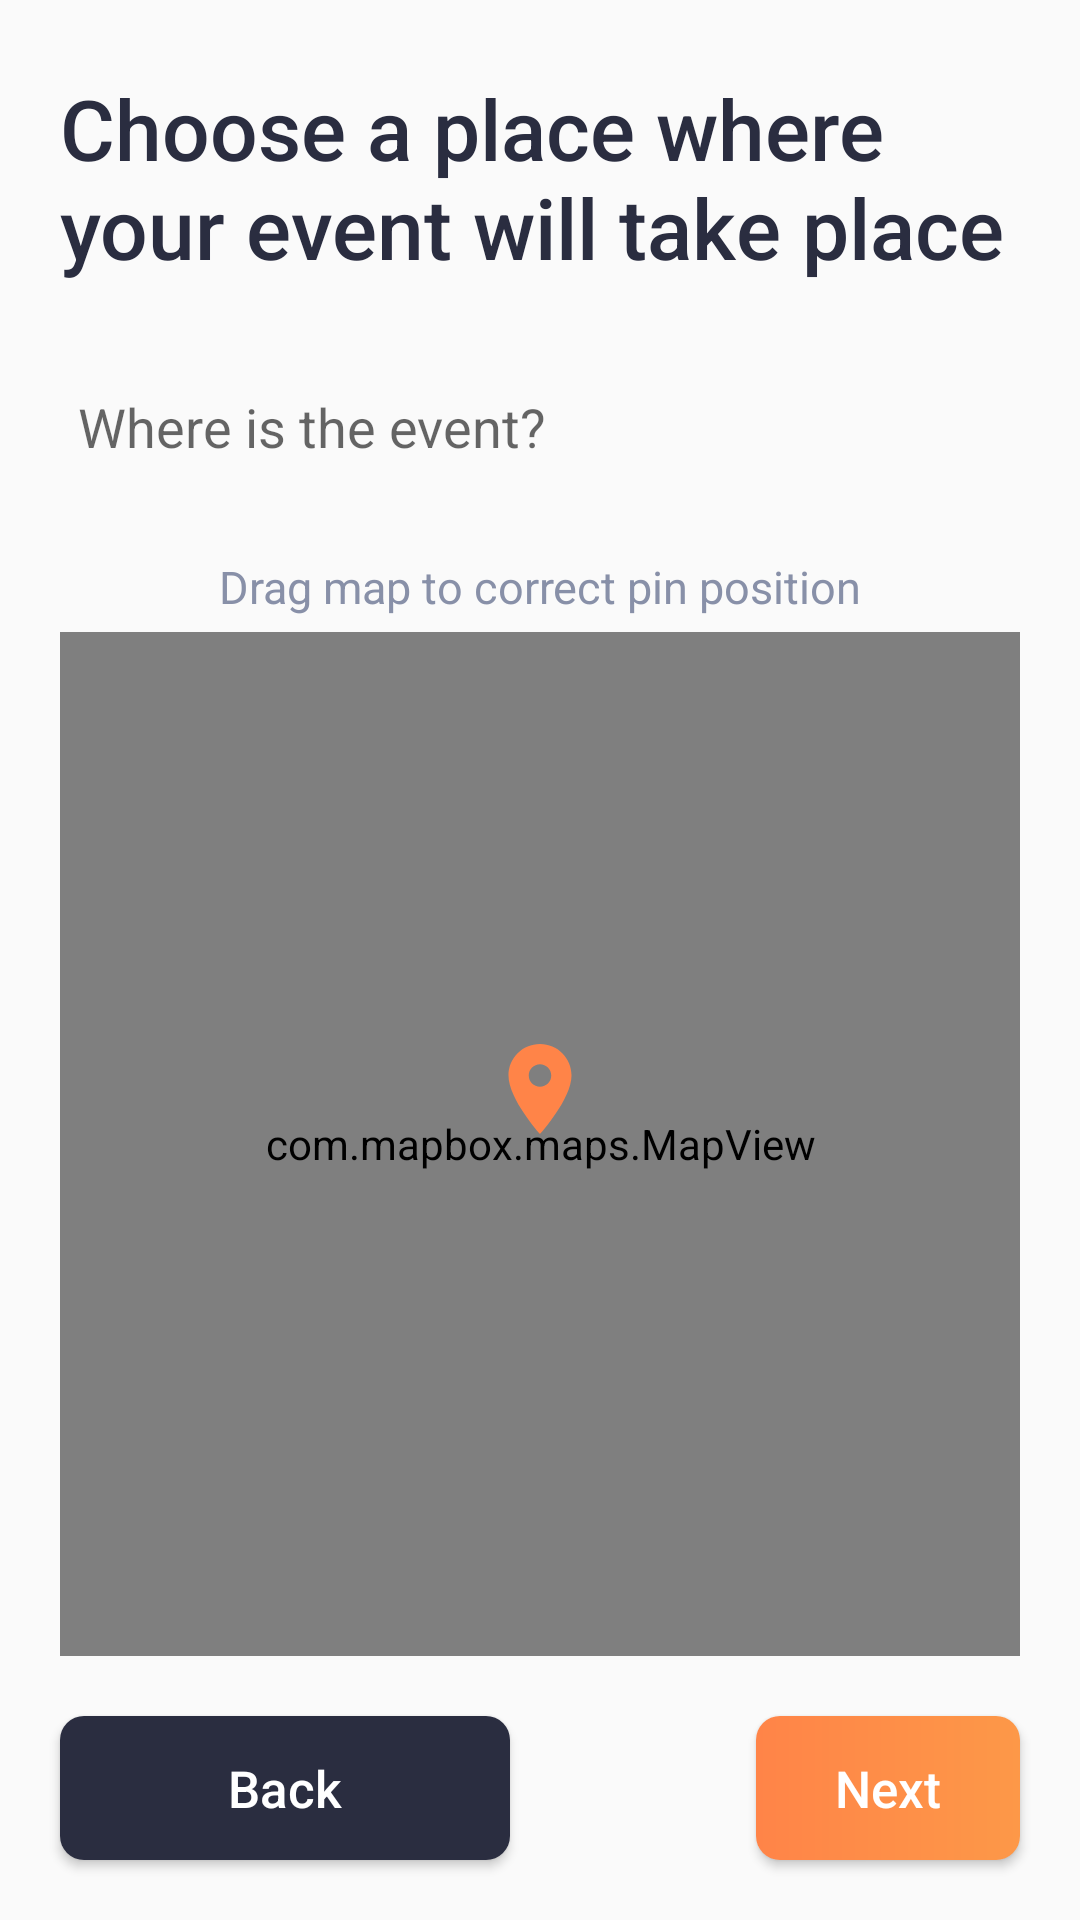

Named icons in this screenshot (1080*1920) and their centers, (x=x, y=y):
marker: (x=540, y=1089)
